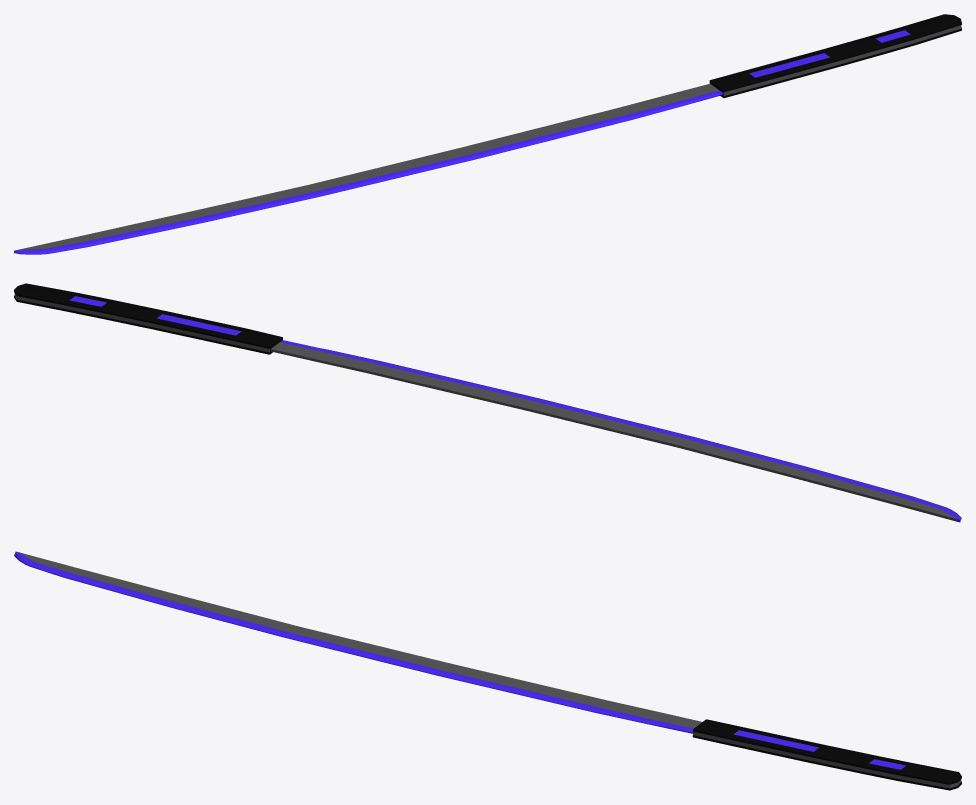
File: futoristic katana.fbx
3 renders of one model, top to bottom at view 1: azimuth 30°, elevation 25°; view 2: azimuth 150°, elevation 25°; view 3: azimuth 330°, elevation 25°, orthographic.
Parts seen in each view (by area): view 1: sword; view 2: sword; view 3: sword.
Part boxes in pixels (x1,y1,x2,y2): sword: (14, 14, 961, 254); sword: (14, 283, 961, 522); sword: (14, 551, 961, 790).
Size of the model in its own units: 78.5 by 0.6771 by 3.99.
